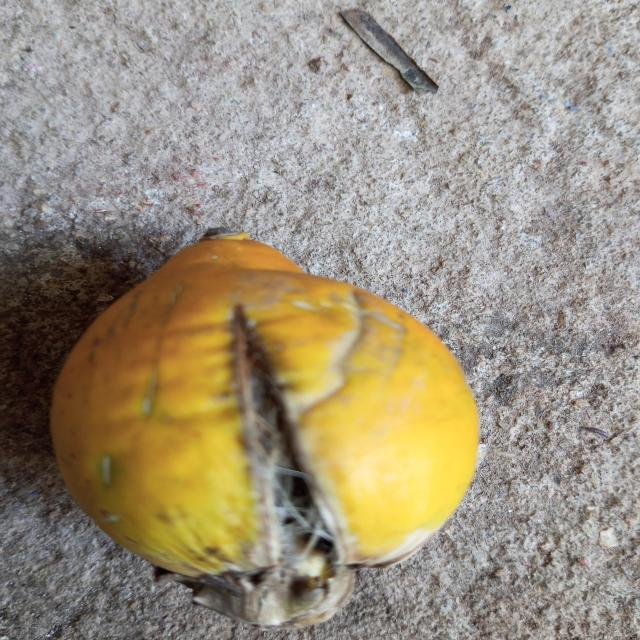damaged: (50, 234, 481, 629)
